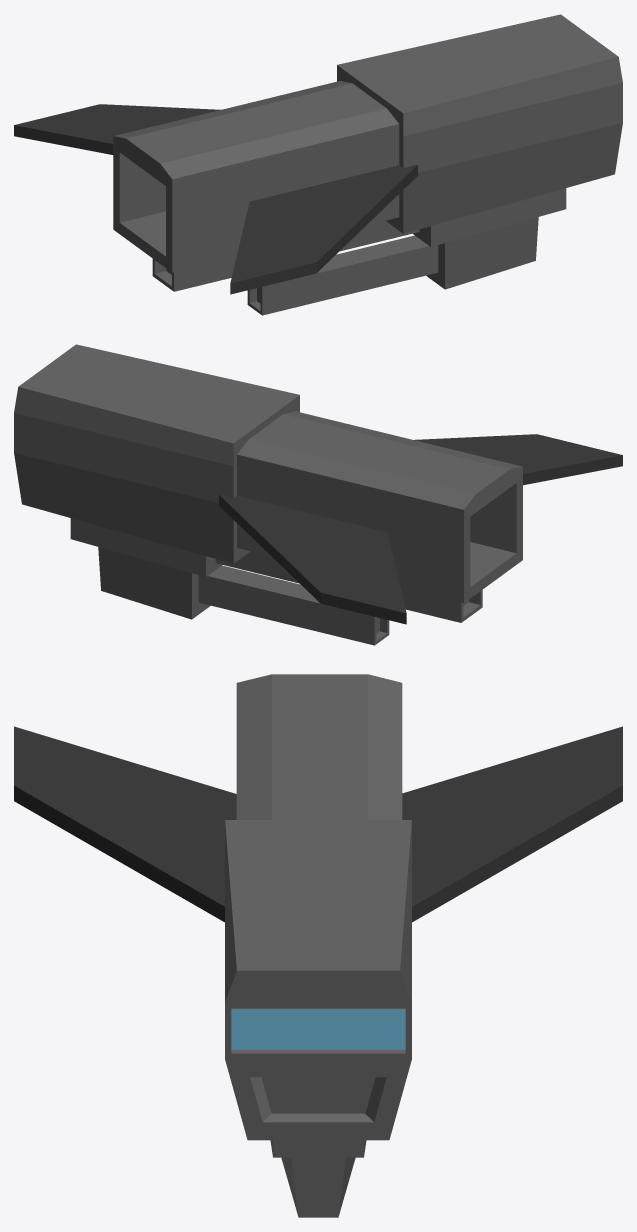
The model's file is stocktruck.fbx.
The picture shows the model from 3 angles, top to bottom: view 1: azimuth 30°, elevation 25°; view 2: azimuth 150°, elevation 25°; view 3: azimuth 270°, elevation 25°; orthographic projection. The views are drawn at different scales.
Visible parts, largest first — view 1: Cube.003; view 2: Cube.003; view 3: Cube.003.
Boxes of the visible parts, x1,y1,x2,y2 form: Cube.003: (14, 14, 622, 315); Cube.003: (14, 344, 622, 645); Cube.003: (14, 674, 622, 1217).
Bounding box in the file's own units: 8796 × 3688 × 7047.
